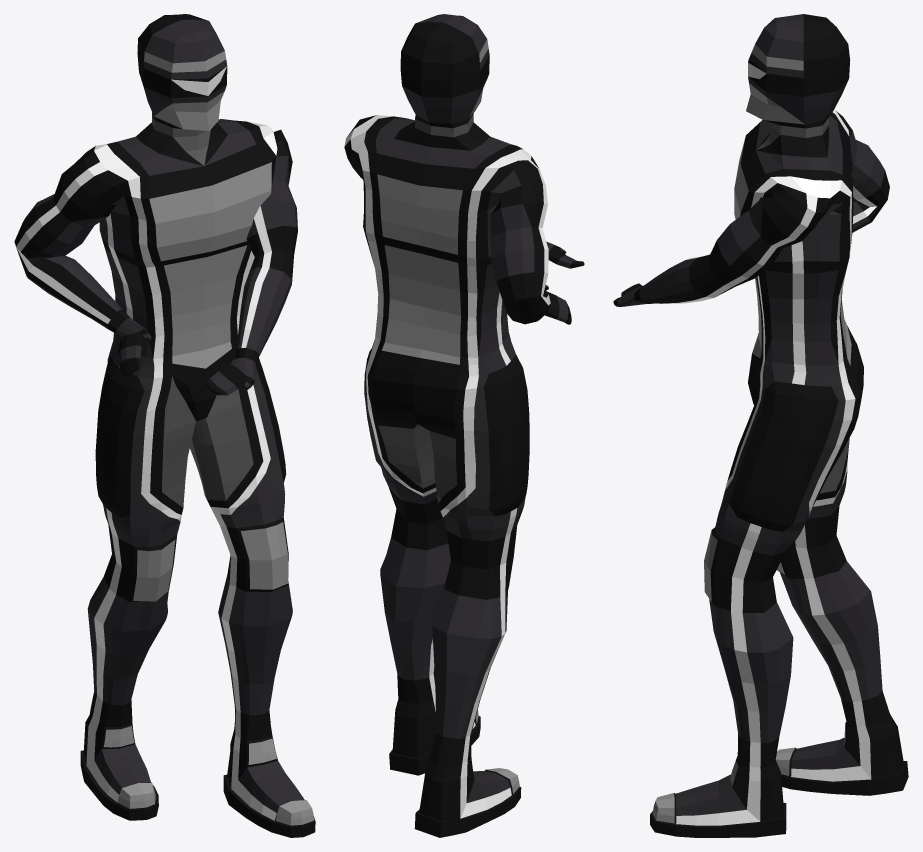
3 views of the same model, side by side, from view 1: azimuth 30°, elevation 25°; view 2: azimuth 150°, elevation 25°; view 3: azimuth 270°, elevation 25° (orthographic).
Parts seen in each view (by area): view 1: metarig_object_metarig_mesh; view 2: metarig_object_metarig_mesh; view 3: metarig_object_metarig_mesh.
Boxes of the visible parts, x1=… form: metarig_object_metarig_mesh: x1=14, y1=14, x2=315, y2=837; metarig_object_metarig_mesh: x1=344, y1=14, x2=584, y2=837; metarig_object_metarig_mesh: x1=613, y1=14, x2=908, y2=837.
Bounding box in the file's own units: 0.5738 × 1.85 × 0.6307.
Materials: 1 (1 with a texture image).
